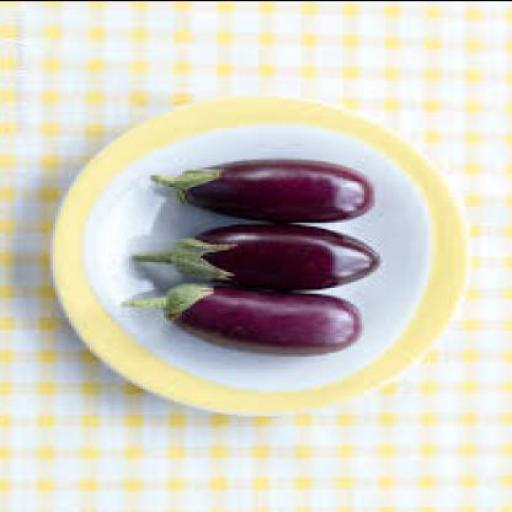biodegradable: (127, 280, 364, 354), (132, 220, 388, 288), (156, 158, 377, 220)
